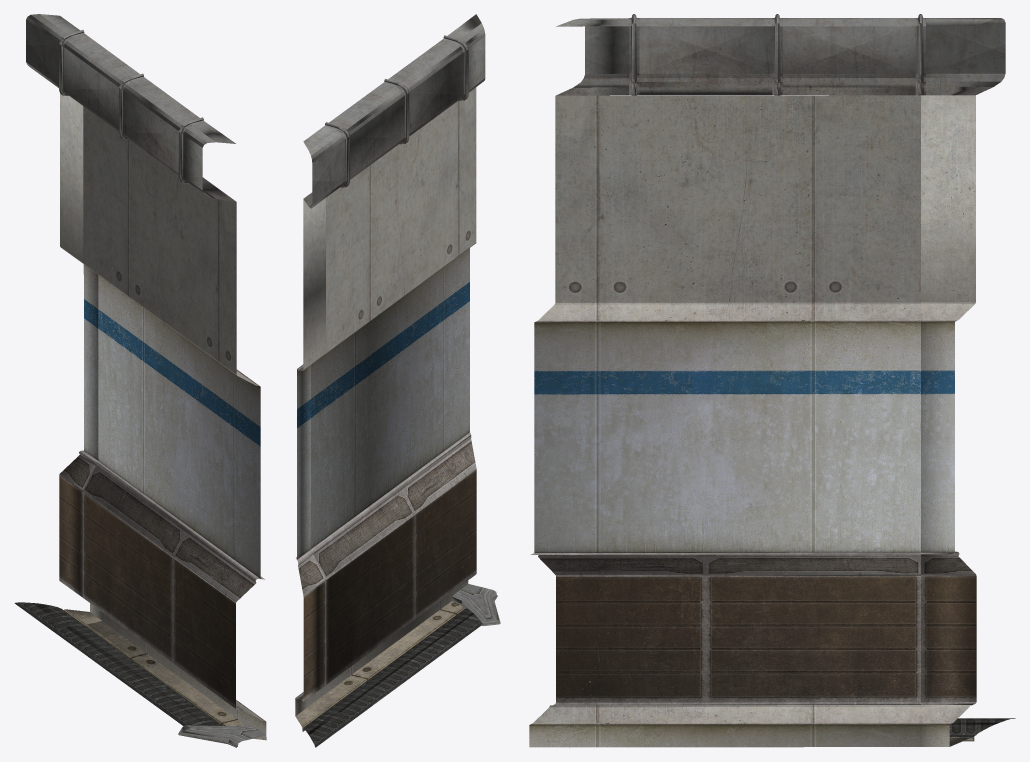
The model's file is MurBord.fbx.
3 renders of one model, left to right at view 1: azimuth 30°, elevation 25°; view 2: azimuth 150°, elevation 25°; view 3: azimuth 270°, elevation 25°, orthographic. The views are drawn at different scales.
Visible parts, largest first — view 1: extents_136; view 2: extents_136; view 3: extents_136.
Part boxes in pixels (x1,y1,x2,y2): extents_136: (14,14,266,747); extents_136: (295,14,500,747); extents_136: (529,14,1015,747).
Bounding box in the file's own units: 78.89 × 755 × 464.
